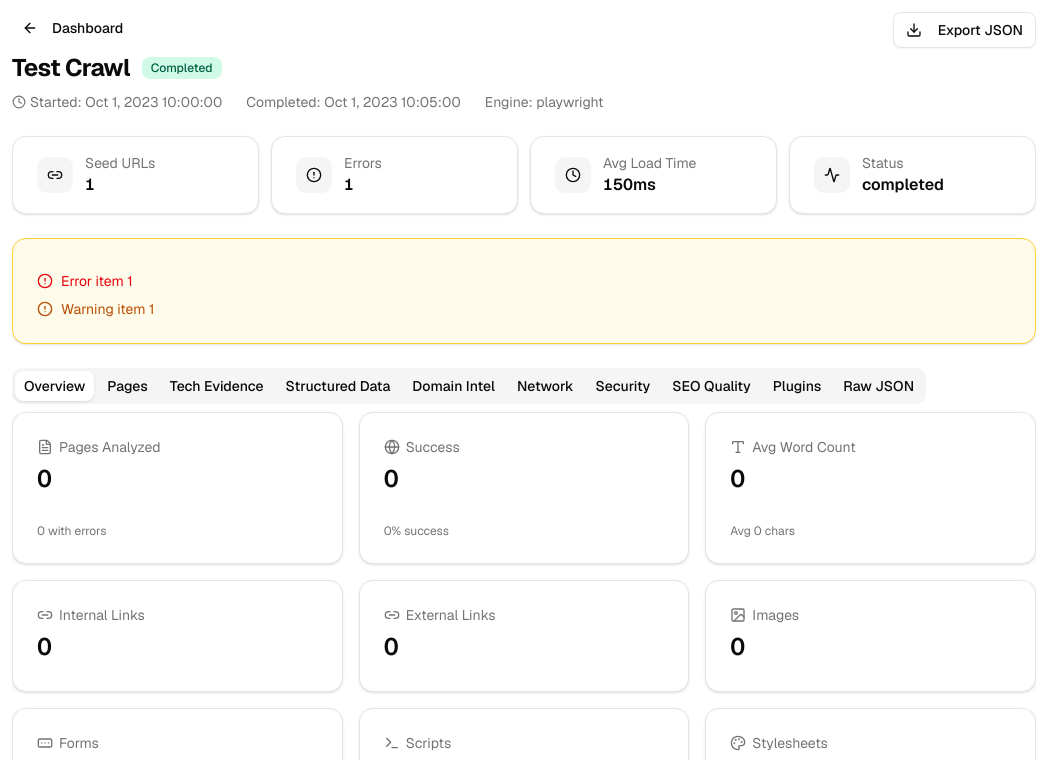
CrawlDetailView › renders empty Pages tab state when crawl has no pages
expect the heading "Test Crawl" is shown: met, box [12,52,130,84]
Click the tab "Pages" at (128, 386), box [98,371,157,401]
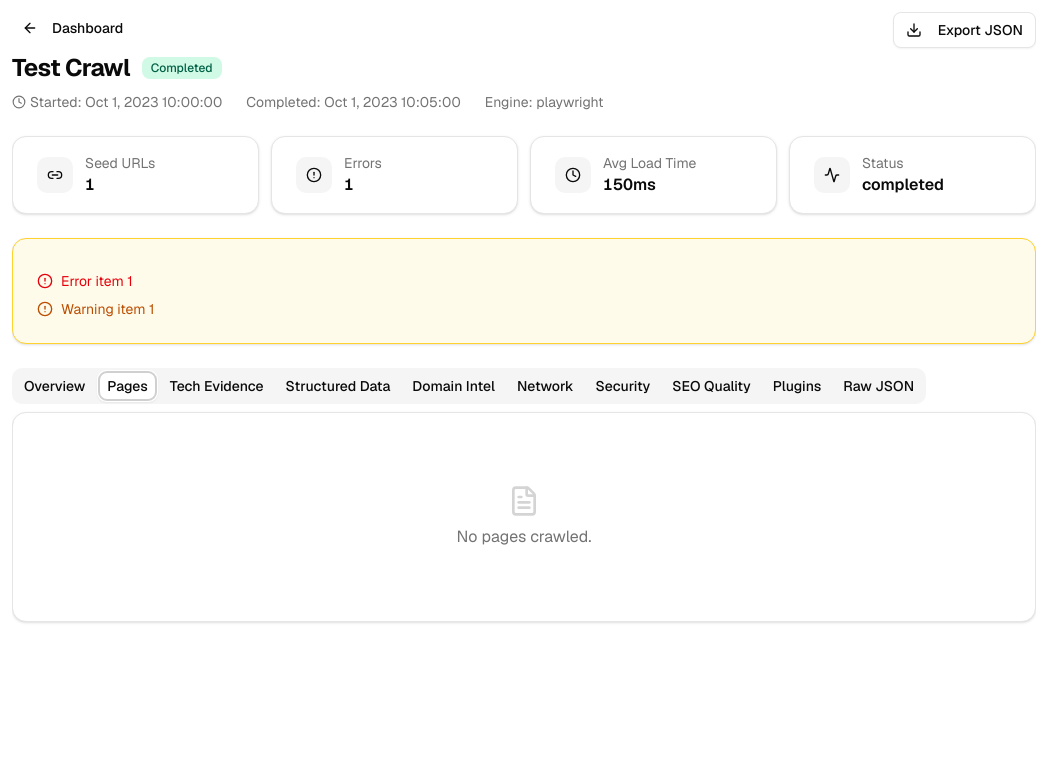
expect the text "No pages crawled." is shown: met, box [457,525,591,549]
